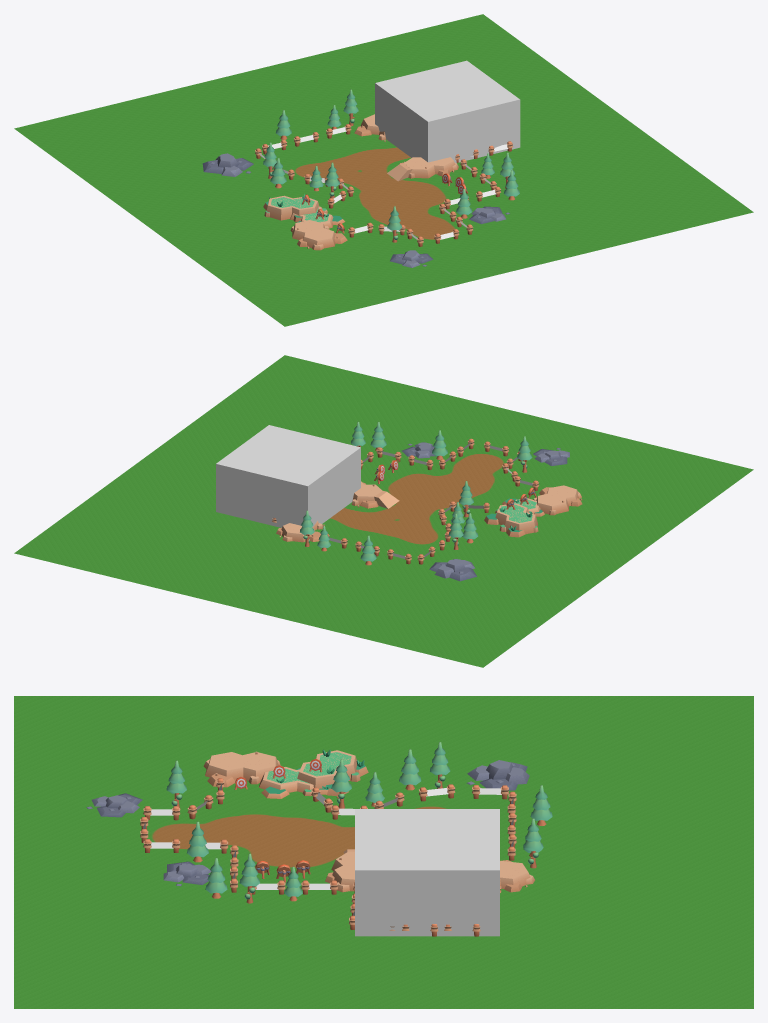
Rendered from testgrounds.glb.
3 renders of one model, top to bottom at view 1: azimuth 30°, elevation 25°; view 2: azimuth 150°, elevation 25°; view 3: azimuth 270°, elevation 25°, orthographic. The views are drawn at different scales.
Visible parts, largest first — view 1: Plane, coolbudyBOT detection, rock-flat, rock-flat-grass.001, rock-flat.001, rock-b.002; view 2: Plane, coolbudyBOT detection, rock-flat-grass.001, rock-flat, rock-b.002, rock-flat.002, rock-flat.001; view 3: Plane, coolbudyBOT detection, rock-flat, rock-flat-grass.001, rock-b.002, rock-flat-grass, rock-b.001, rock-b, rock-flat.002, rock-flat.001, tree-high.003, tree-high.002 (+6 smaller).
Boxes of the visible parts, box(x1,y1,x2,y2) form: Plane: box(14, 14, 753, 326); coolbudyBOT detection: box(375, 60, 520, 163); rock-flat: box(290, 220, 347, 250); rock-flat-grass.001: box(263, 194, 319, 222); rock-flat.001: box(399, 157, 458, 178); rock-b.002: box(202, 153, 253, 176); Plane: box(14, 355, 753, 667); coolbudyBOT detection: box(216, 425, 360, 527); rock-flat-grass.001: box(484, 503, 538, 537); rock-flat: box(533, 485, 582, 515); rock-b.002: box(429, 559, 476, 581); rock-flat.002: box(276, 521, 324, 542); rock-flat.001: box(351, 481, 382, 508); Plane: box(14, 696, 753, 1008); coolbudyBOT detection: box(355, 809, 499, 936); rock-flat: box(203, 751, 280, 787); rock-flat-grass.001: box(296, 749, 368, 796); rock-b.002: box(466, 760, 529, 790); rock-flat-grass: box(259, 767, 328, 798); rock-b.001: box(86, 793, 142, 817); rock-b: box(163, 861, 211, 886); rock-flat.002: box(500, 860, 534, 892); rock-flat.001: box(325, 851, 354, 892); tree-high.003: box(239, 853, 260, 903); tree-high.002: box(523, 818, 543, 868).
Size of the model in its own units: 2 by 0.3923 by 2.
9 materials, 8 textured.
